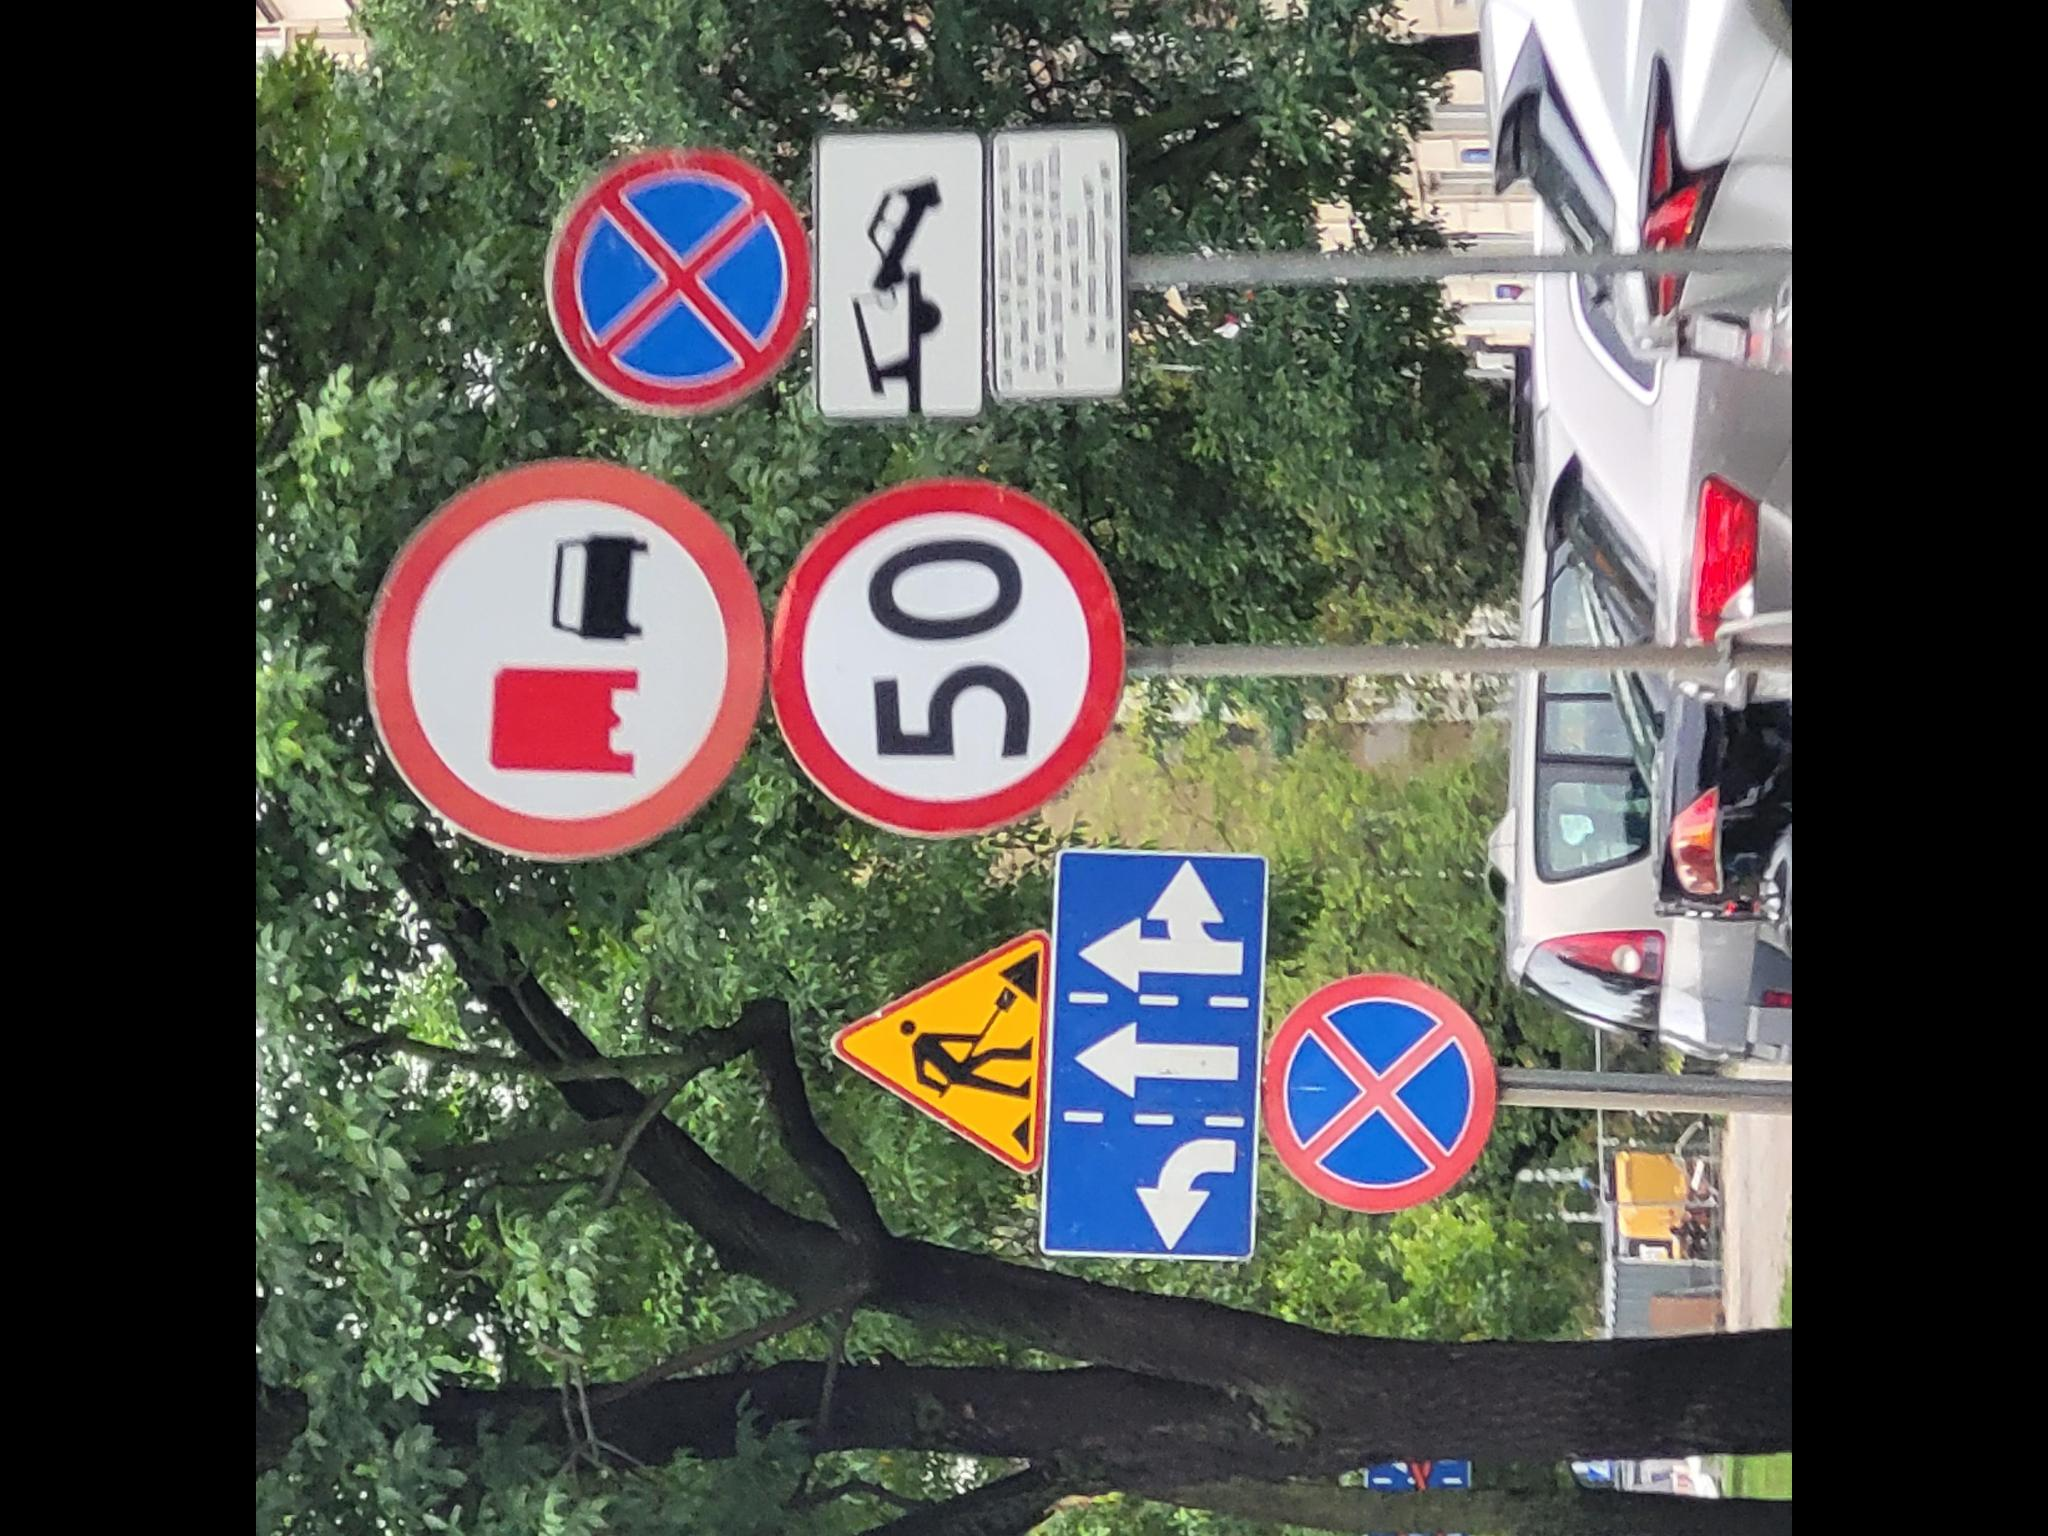other: (1042, 850, 1266, 1249), (816, 134, 979, 419), (993, 124, 1119, 402), (1363, 1454, 1472, 1489)
prohibitory: (361, 455, 768, 863), (769, 476, 1127, 842), (542, 148, 814, 415), (1263, 970, 1498, 1213)
warning: (829, 926, 1055, 1178)
